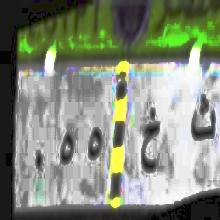0: (30, 144, 46, 172)
5: (56, 122, 76, 176), (86, 120, 104, 170)
khaa: (138, 106, 162, 179)
thaa: (190, 88, 216, 150)
